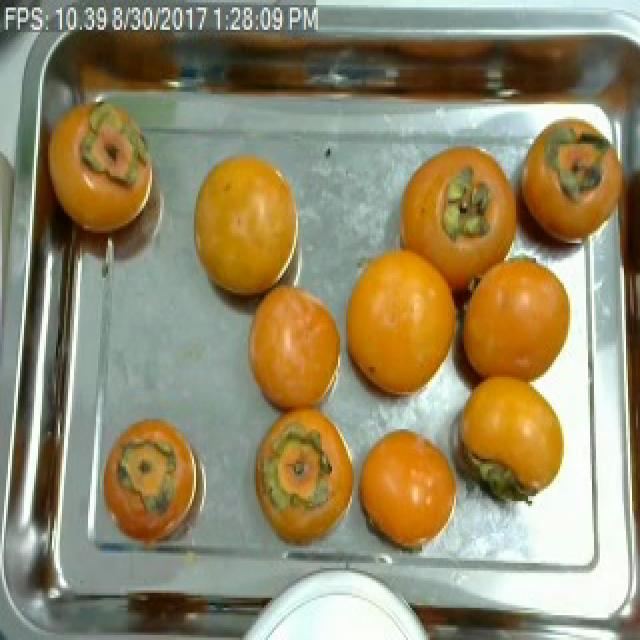Fruit: (336, 231, 466, 419), (386, 132, 530, 292), (182, 144, 306, 315), (242, 394, 364, 566), (450, 241, 576, 404), (344, 409, 470, 568), (44, 82, 166, 245), (506, 104, 622, 273), (90, 406, 214, 560), (444, 367, 574, 511), (234, 273, 348, 429)
